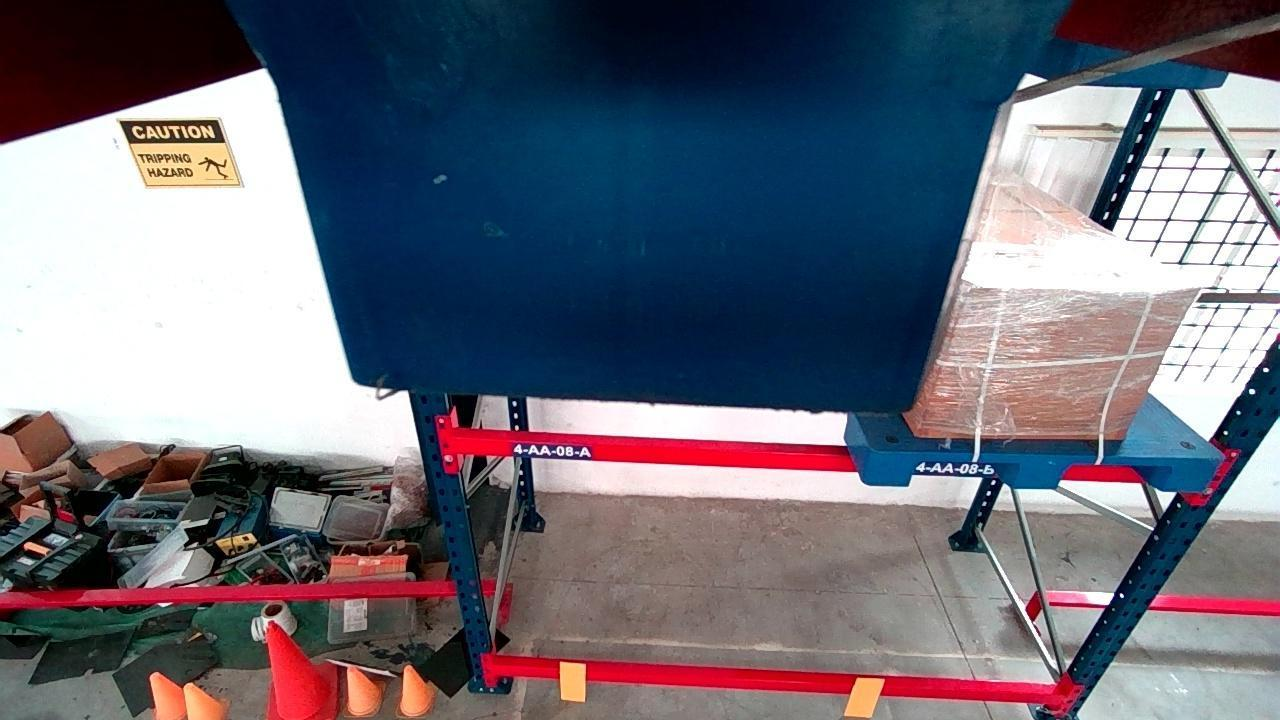h_rack: (494, 657, 1062, 708), (452, 430, 857, 470)
orange_strip: (842, 676, 886, 718), (561, 662, 587, 702)
small_pallet: (870, 451, 1223, 495)
